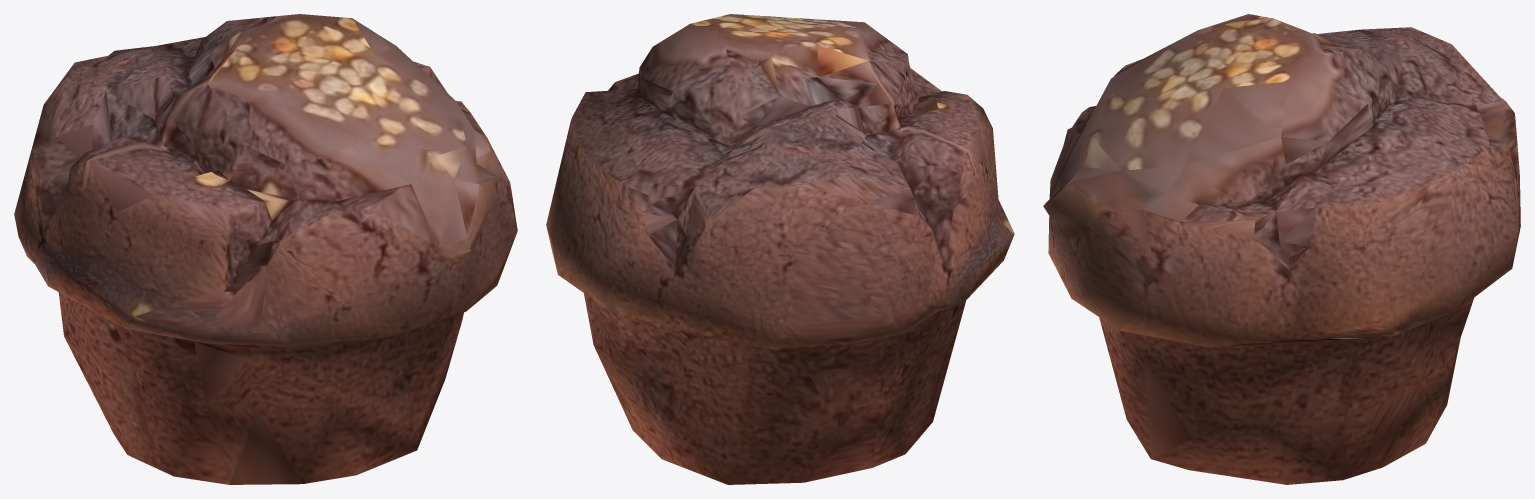
Rendered from muffin_412.obj.
The picture shows the model from 3 angles, left to right: view 1: azimuth 30°, elevation 25°; view 2: azimuth 150°, elevation 25°; view 3: azimuth 270°, elevation 25°; orthographic projection. The views are drawn at different scales.
Bounding box in the file's own units: 14.15 × 12.91 × 14.36.
Materials: 1 (1 with a texture image).
